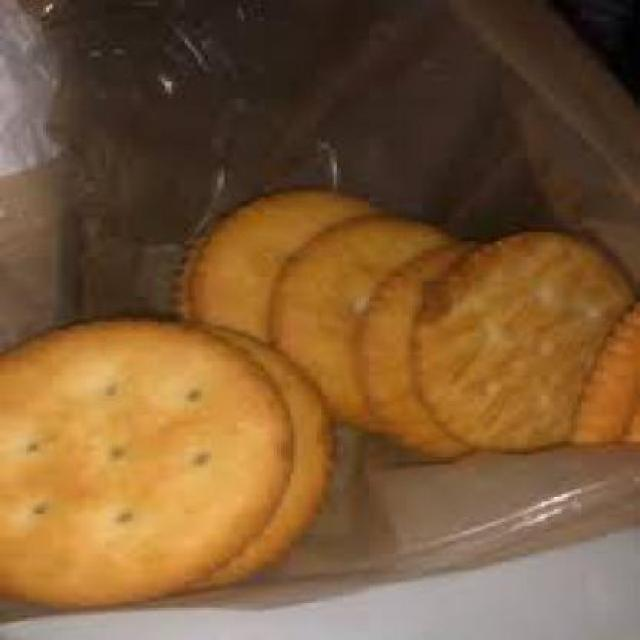Ritz cracker packaged: (13, 177, 636, 614)
